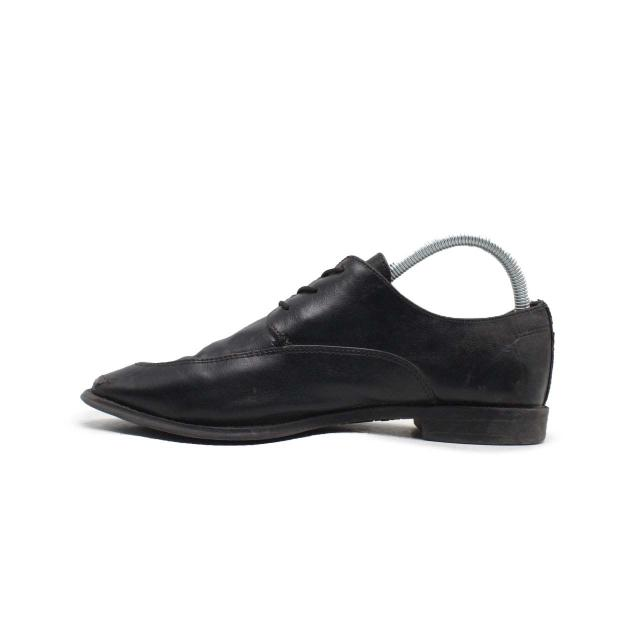heel: (485, 300, 552, 409)
midsole: (79, 392, 550, 446)
uppersole: (89, 254, 488, 427)
